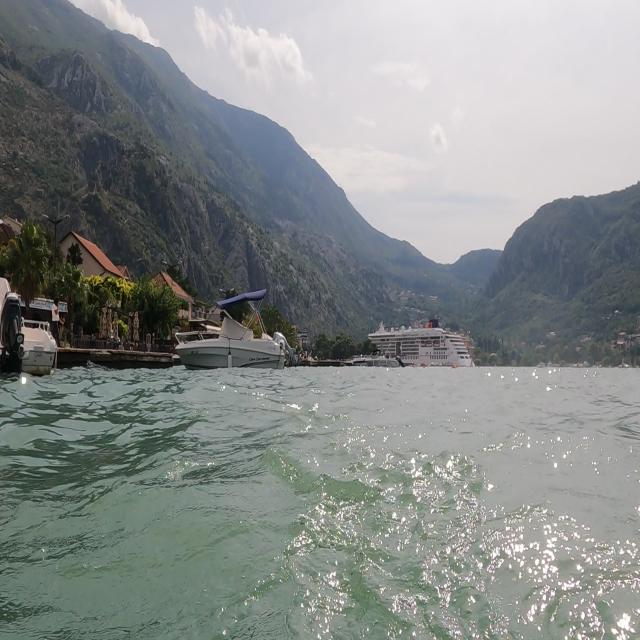boat: (173, 286, 288, 374), (366, 319, 496, 385), (0, 271, 68, 387)
